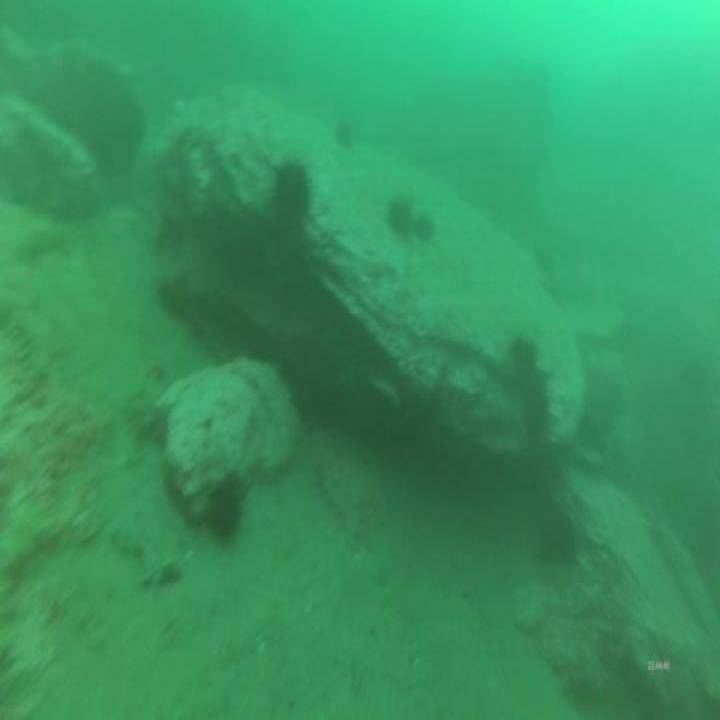echinus: (270, 155, 314, 229), (207, 466, 245, 546), (540, 509, 582, 570), (521, 370, 552, 448), (509, 327, 537, 389), (387, 189, 414, 247), (412, 208, 437, 249), (332, 112, 356, 151)
